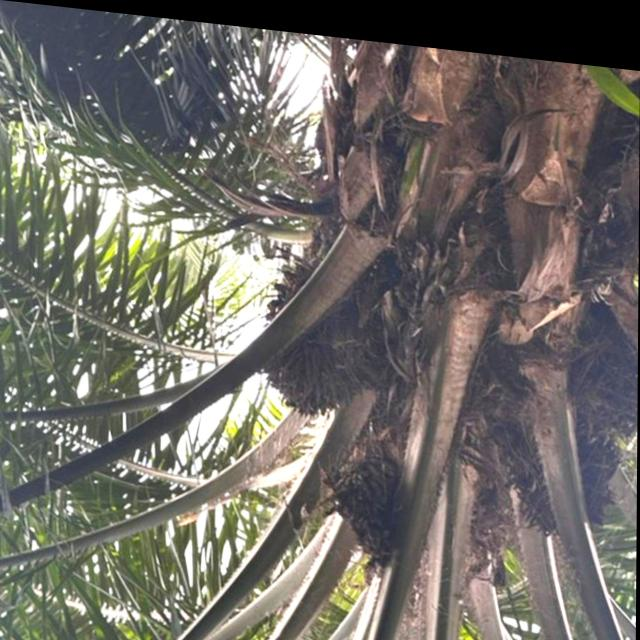almost: (262, 252, 367, 421)
